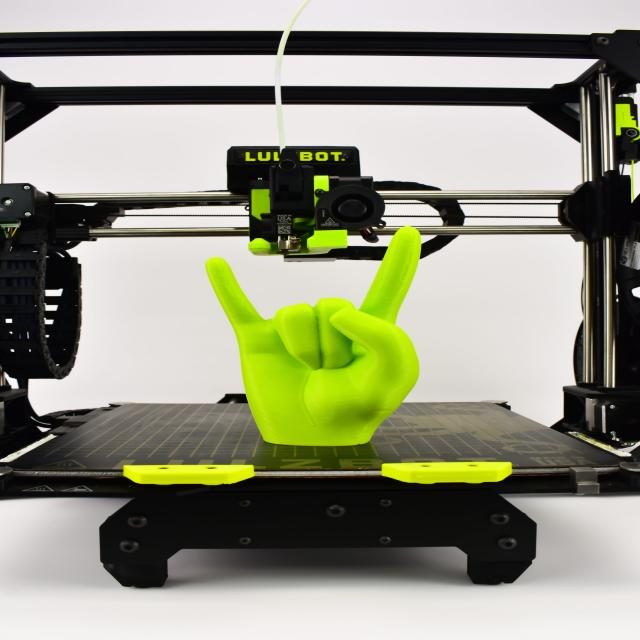Without deffect: (165, 234, 487, 452)
